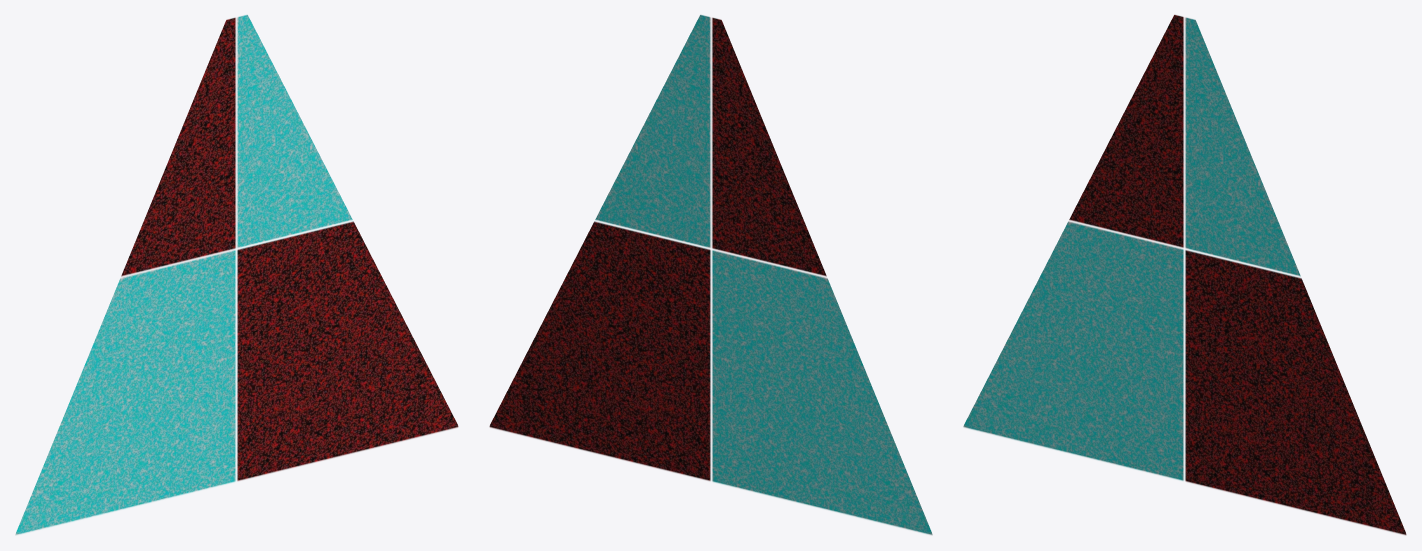
3 renders of one model, left to right at view 1: azimuth 30°, elevation 25°; view 2: azimuth 150°, elevation 25°; view 3: azimuth 330°, elevation 25°, orthographic.
Parts seen in each view (by area): view 1: SM_VFX_Triangle_LOD0; view 2: SM_VFX_Triangle_LOD0; view 3: SM_VFX_Triangle_LOD0.
Part boxes in pixels (x1,y1,x2,y2): SM_VFX_Triangle_LOD0: (15,15,458,535); SM_VFX_Triangle_LOD0: (489,15,932,535); SM_VFX_Triangle_LOD0: (963,15,1406,535).
Size of the model in its own units: 2 by 2 by 0.
Materials: 1 (1 with a texture image).
